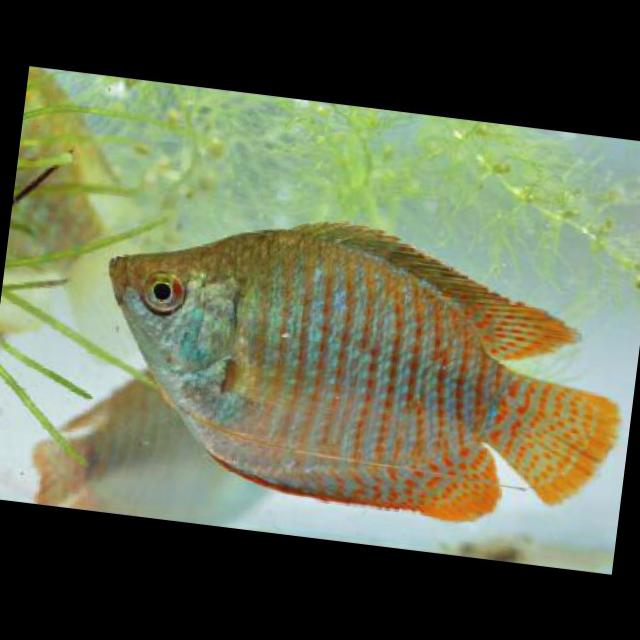Gourami: (75, 181, 640, 536)
